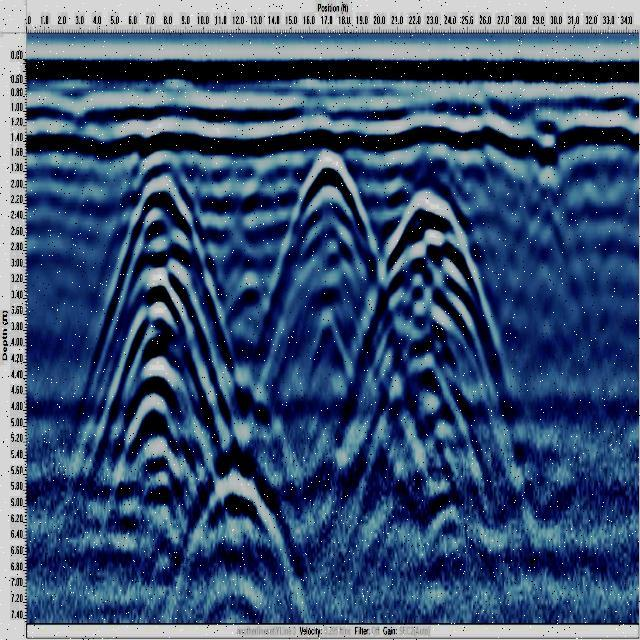hyperbola: (96, 151, 218, 505), (381, 175, 498, 392), (278, 133, 372, 354), (193, 462, 292, 602)
